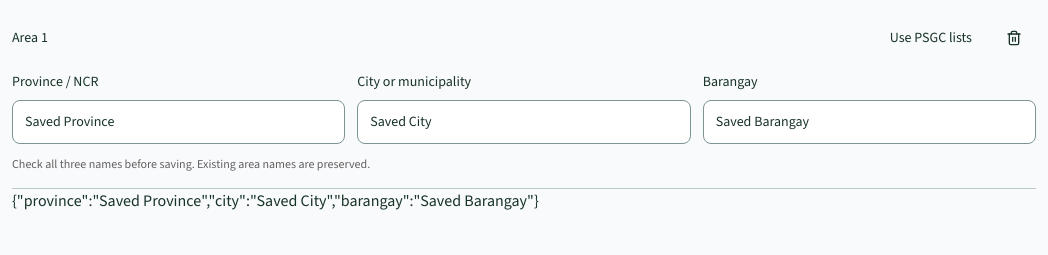
Test: PSGC campaign areas › preserves saved names and offers manual entry when lookup fails
The width and height of the screenshot is (1048, 255).
Expected: the field named "Area 1 barangay" holds "Saved Barangay", 703,100 -> 1036,144
Click the button "Use PSGC lists" at x=931, y=38, box 878,16 -> 984,60
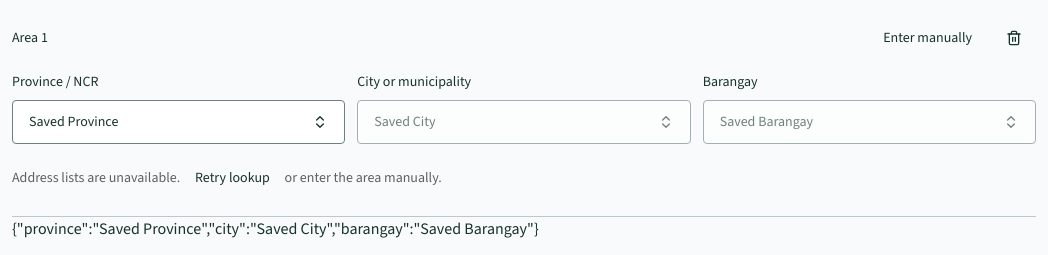
Expected: the text "Address lists are unavailable" is shown, 12,168 -> 180,187
Click the button "Enter manually" at x=928, y=38, box 871,16 -> 984,60
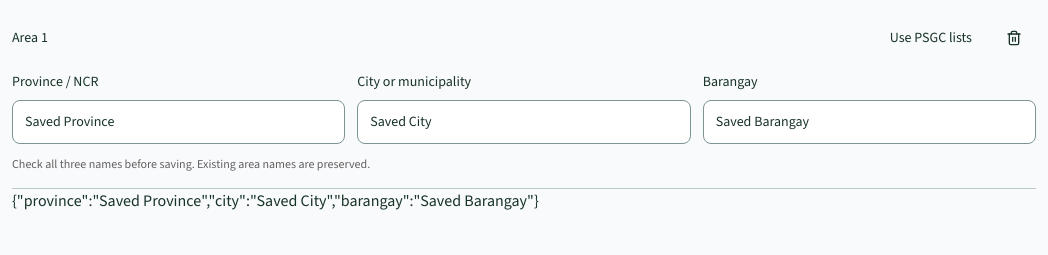
Expected: the field named "Area 1 province" holds "Saved Province", 12,100 -> 345,144
Replace the text in the field named "Area 1 barangay" with "Corrected" at x=869, y=122, box 703,100 -> 1036,144
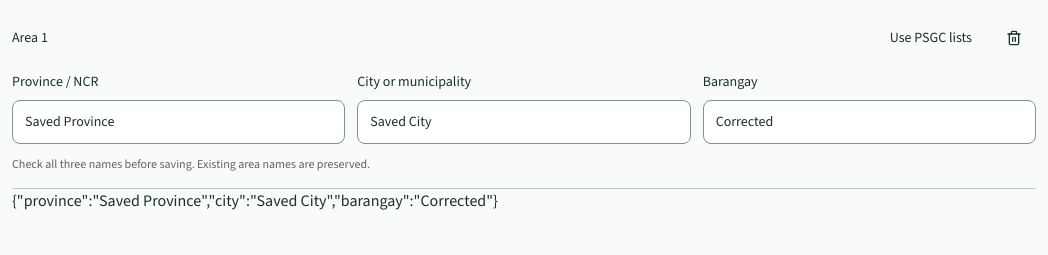
Expected: the text "Corrected" is shown, 12,190 -> 498,211
